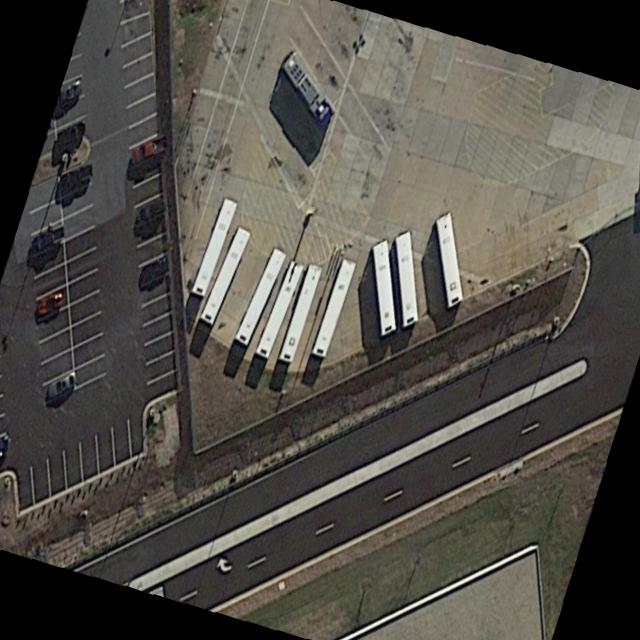large-vehicle: (232, 243, 287, 349), (190, 195, 239, 301), (202, 226, 254, 324), (255, 260, 305, 360), (311, 256, 358, 359), (278, 265, 324, 361), (282, 48, 333, 121), (436, 208, 466, 309), (395, 227, 421, 330), (373, 237, 395, 337)
small-vehicle: (28, 220, 66, 259), (61, 161, 95, 197), (56, 117, 89, 154), (138, 252, 169, 289), (130, 133, 162, 167), (35, 286, 67, 319), (46, 370, 77, 401), (136, 194, 166, 225), (0, 432, 10, 457)
